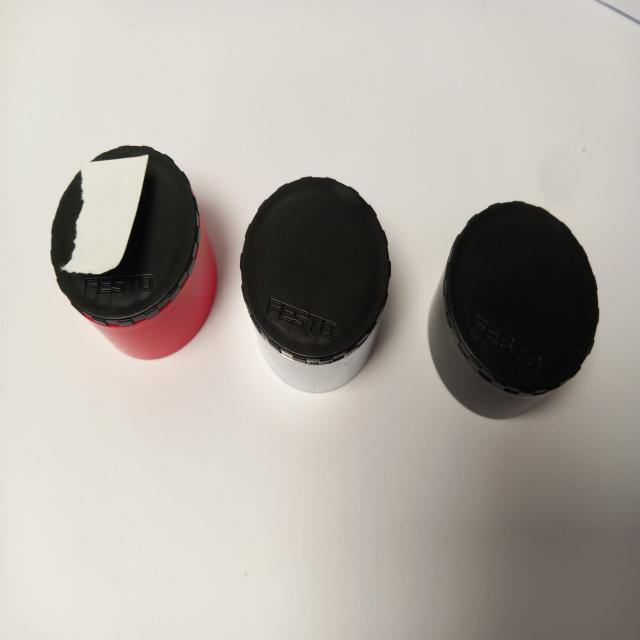Workpiece: (431, 187, 602, 422), (235, 173, 396, 401)
